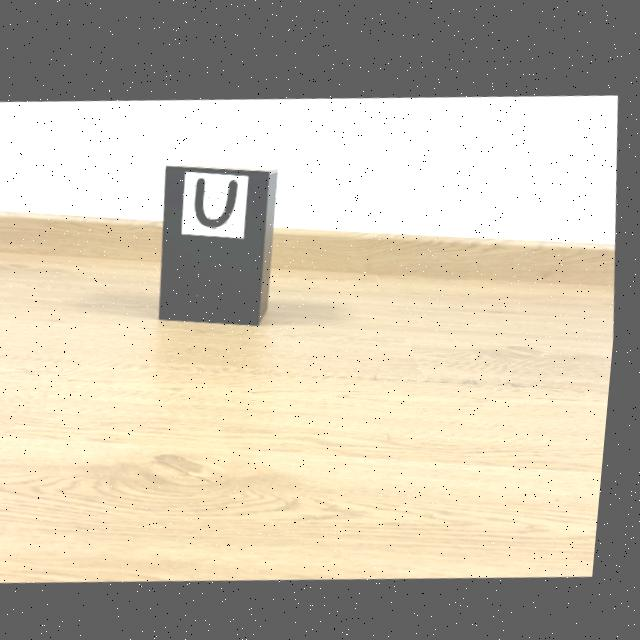U: (198, 175, 239, 225)
